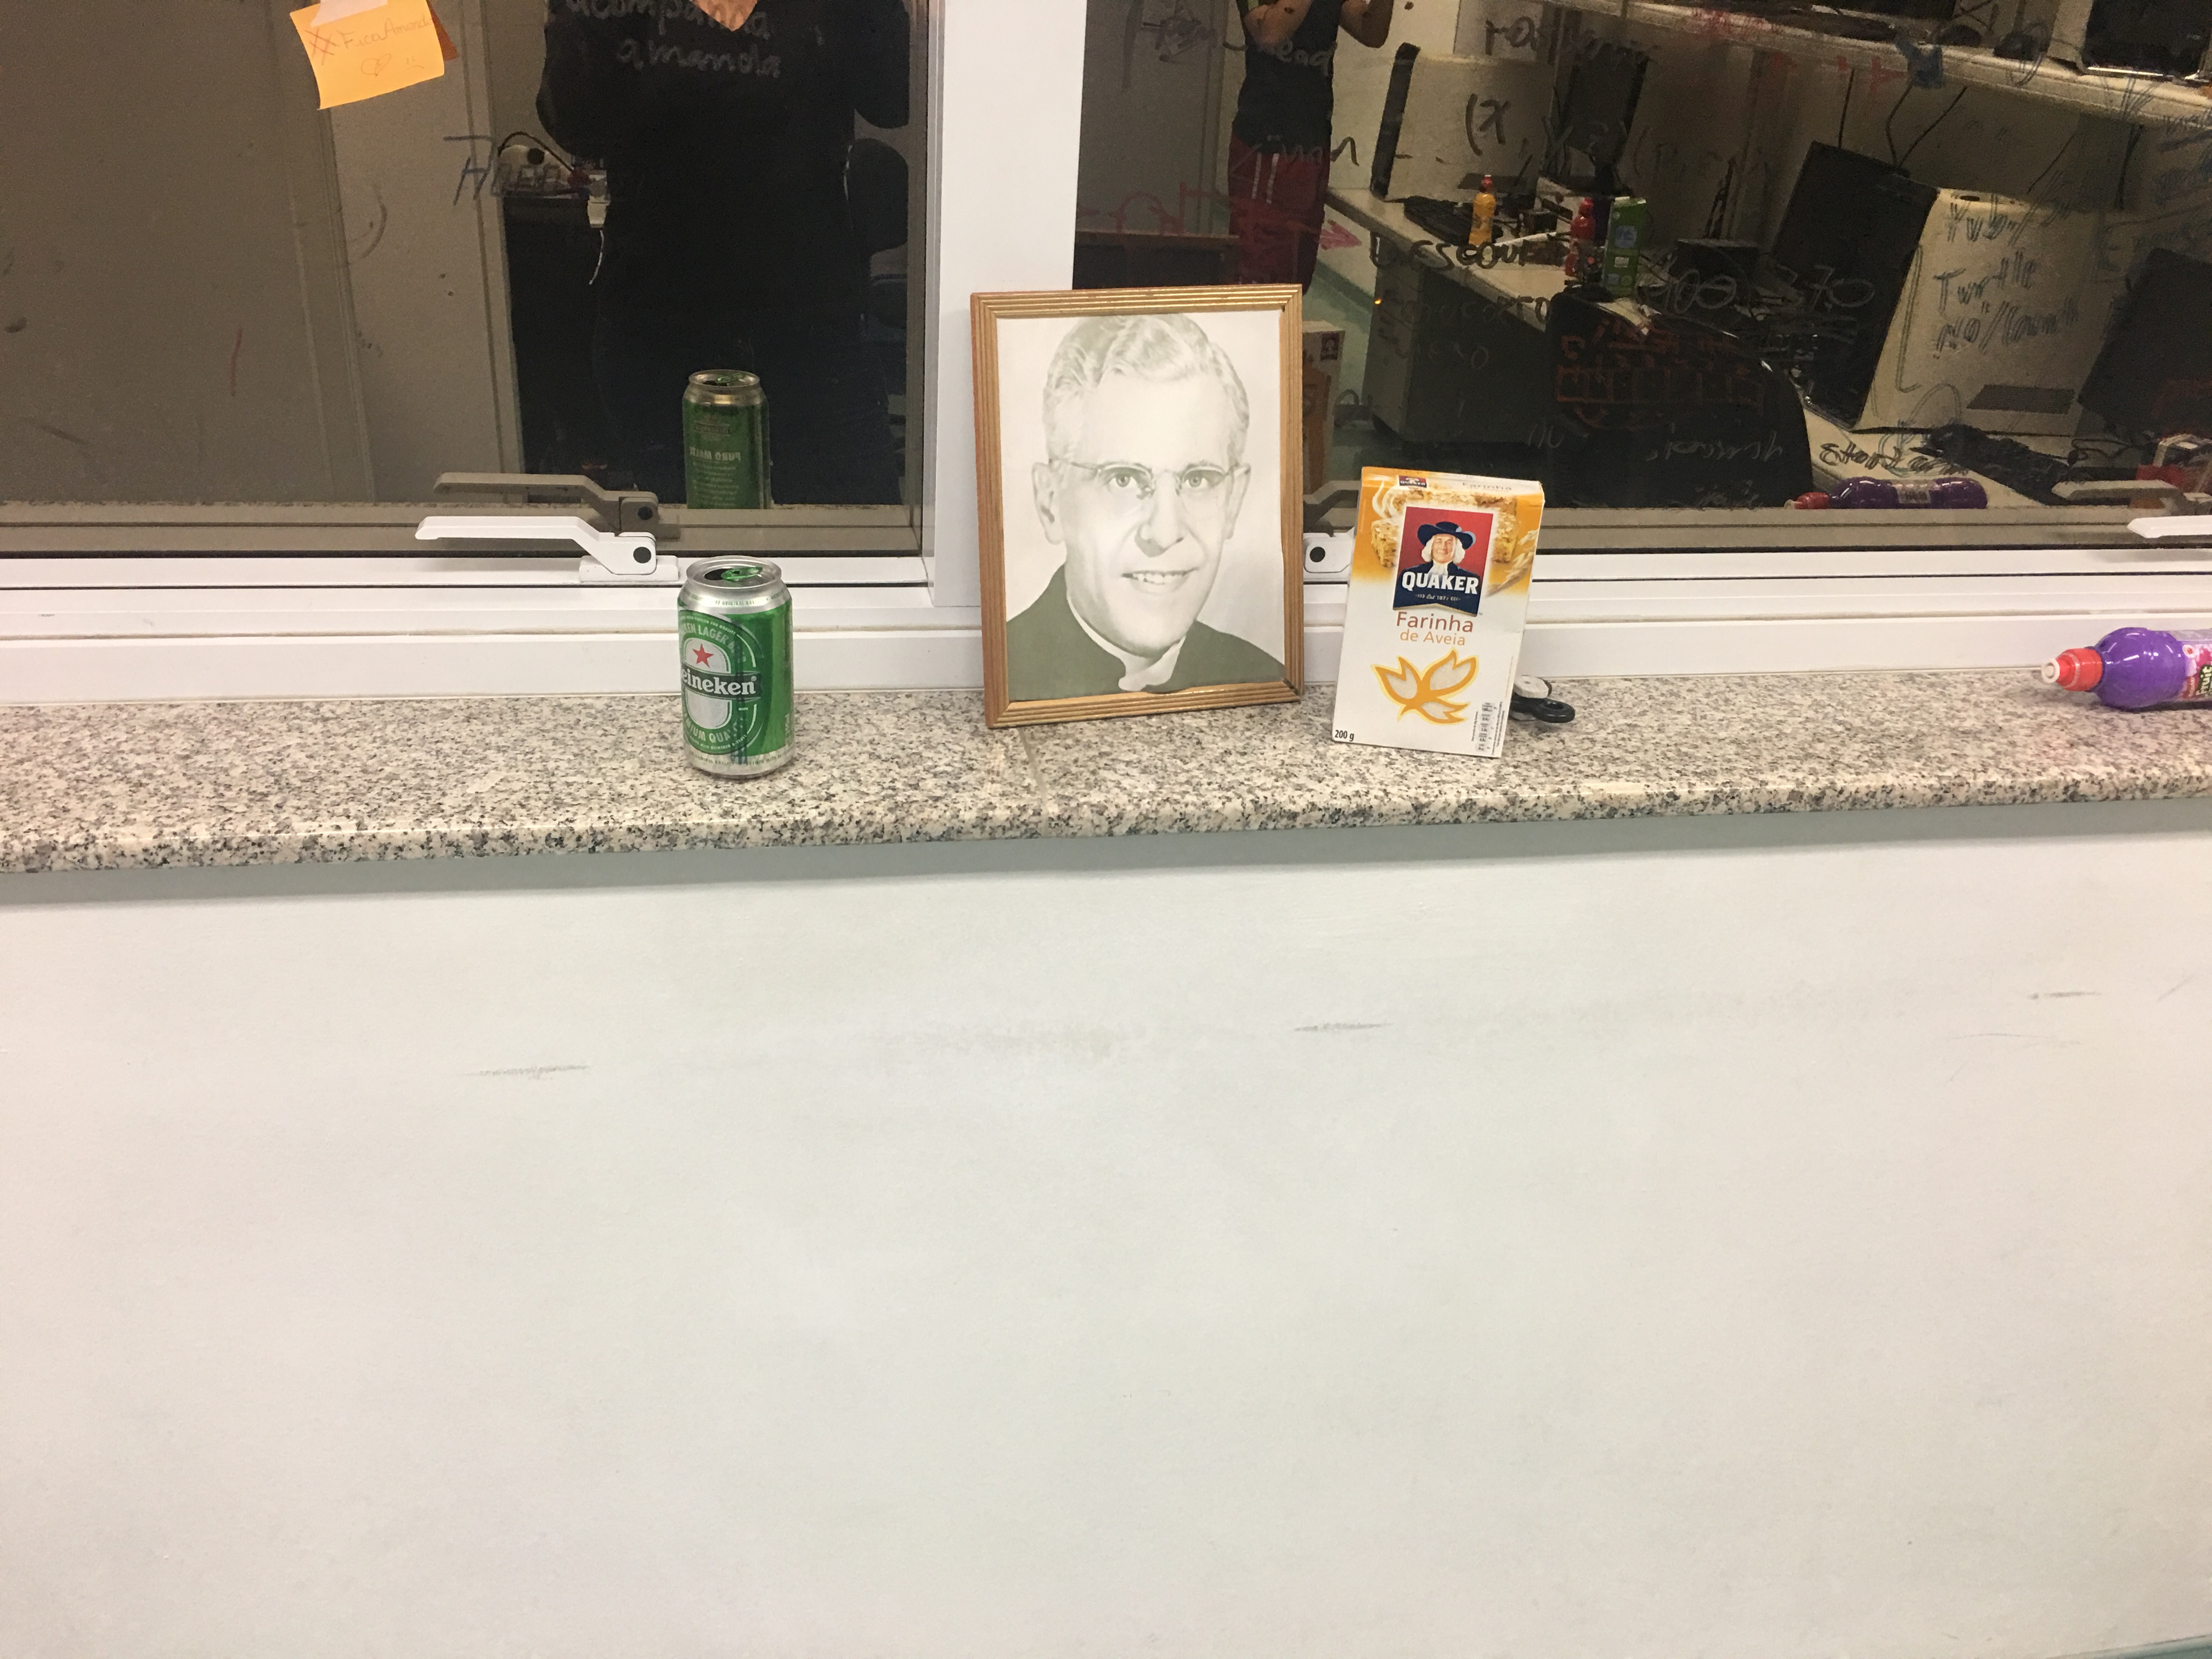cereal: (1331, 450, 1552, 784)
heineken: (669, 556, 806, 795)
purple_juice: (2027, 619, 2212, 713)
